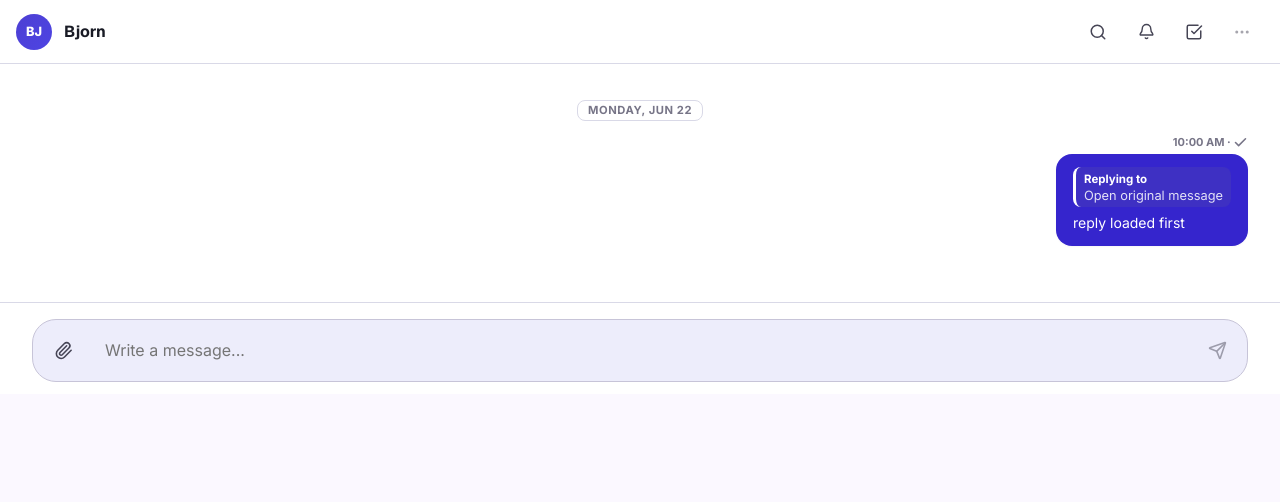
Test: ConversationPage rendering › loads the original message window before jumping to an unloaded reply target
Check: the text "reply loaded first" is shown, box [1073,214,1185,231]
Check: the text "older original" is not shown
Click the button "Replying to Open original message": (1152,187) [1073,167,1231,207]
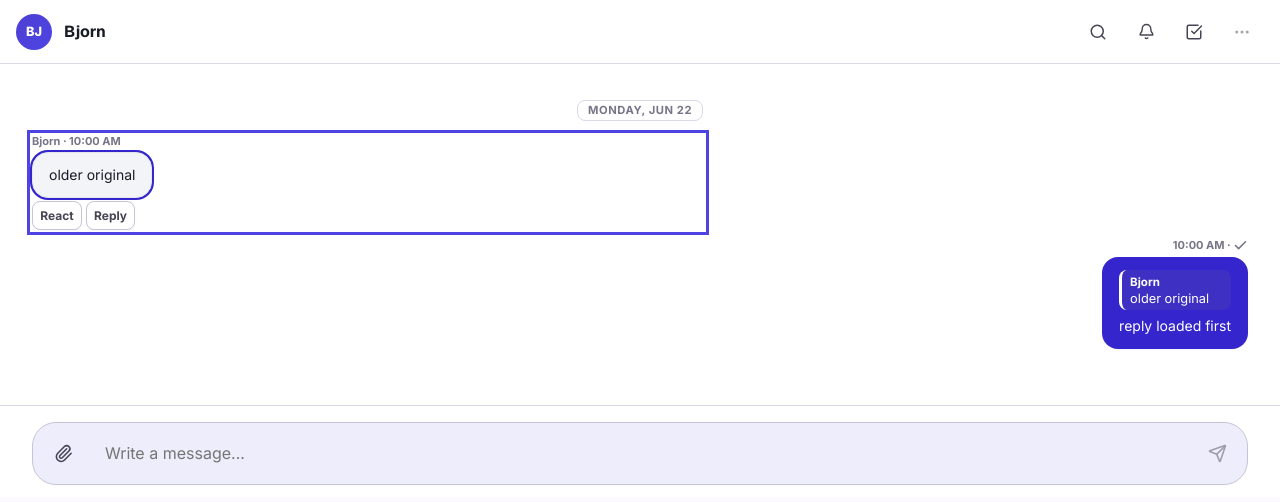
Check: the 1st text "older original" is shown, box [49,166,135,183]
